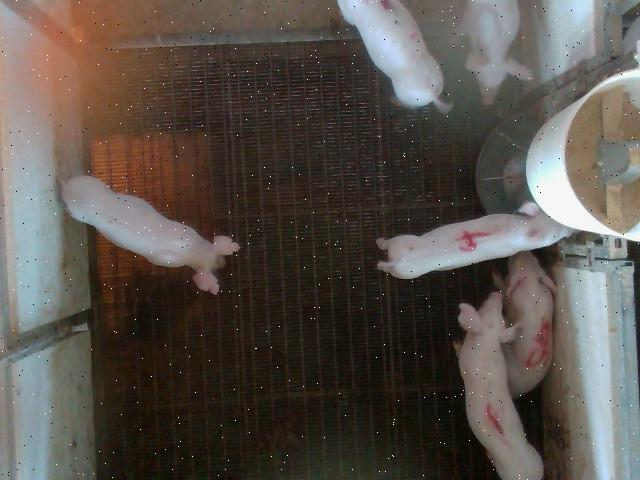pig-1: (455, 292, 542, 480)
pig-3: (338, 1, 452, 112)
pig-4: (378, 203, 572, 279)
pig-5: (502, 252, 556, 398)
